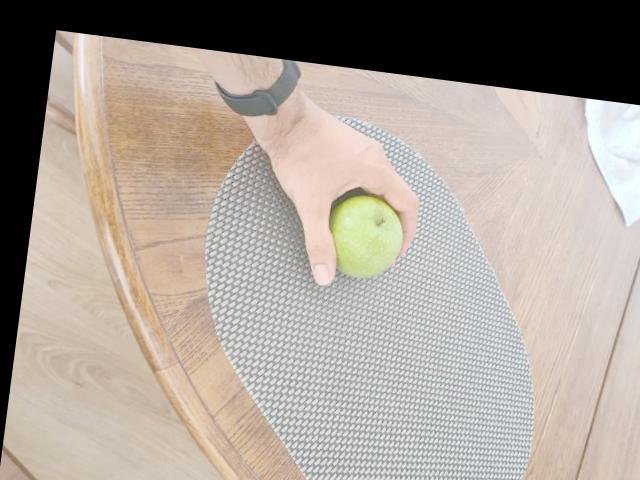apple: (322, 195, 411, 284)
